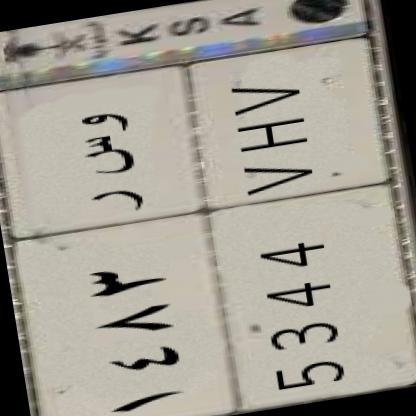english: (170, 24, 416, 414)
